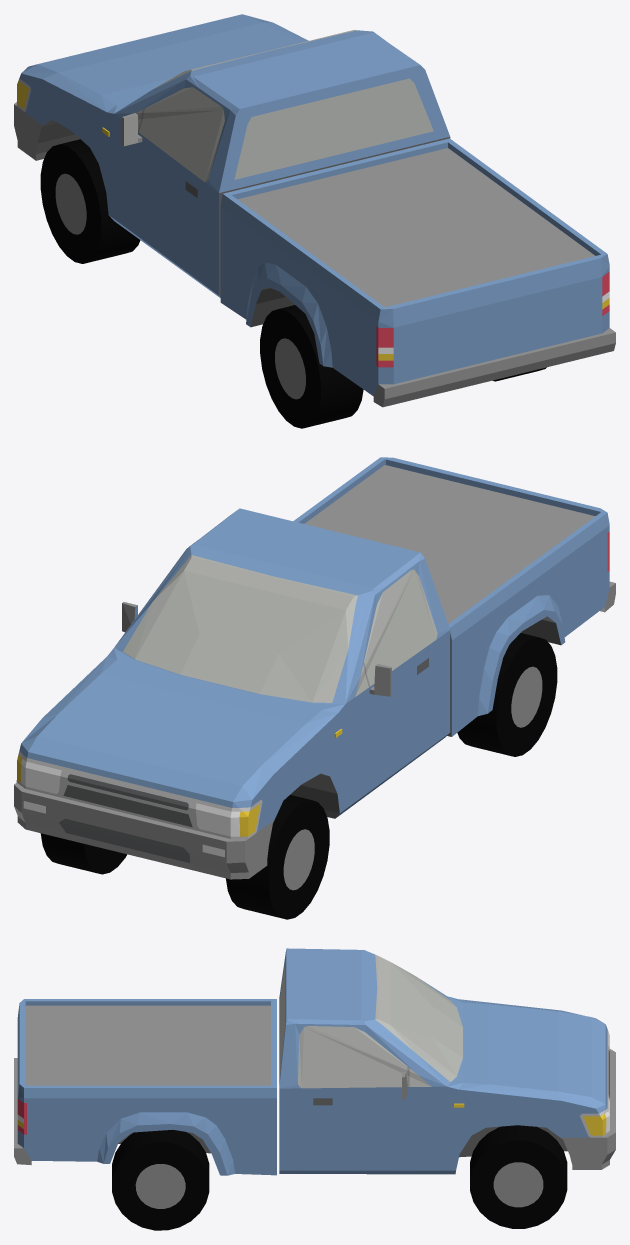
The model's file is hilux.glb.
3 views of the same model, one above another, from view 1: azimuth 30°, elevation 25°; view 2: azimuth 150°, elevation 25°; view 3: azimuth 270°, elevation 25° (orthographic). The views are drawn at different scales.
Parts seen in each view (by area): view 1: Mesh1 Model; view 2: Mesh1 Model; view 3: Mesh1 Model.
Boxes of the visible parts, x1,y1,x2,y2 form: Mesh1 Model: (14, 14, 615, 428); Mesh1 Model: (14, 457, 615, 919); Mesh1 Model: (14, 948, 615, 1230).
Bounding box in the file's own units: 1.94 × 1.73 × 4.7.
